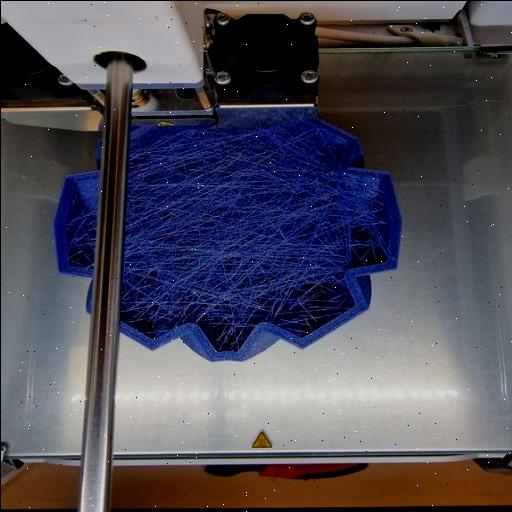stringing: (118, 120, 370, 340)
